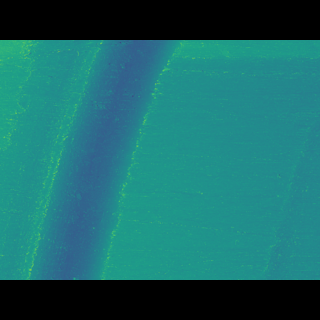Loch: (0, 69, 184, 249)
